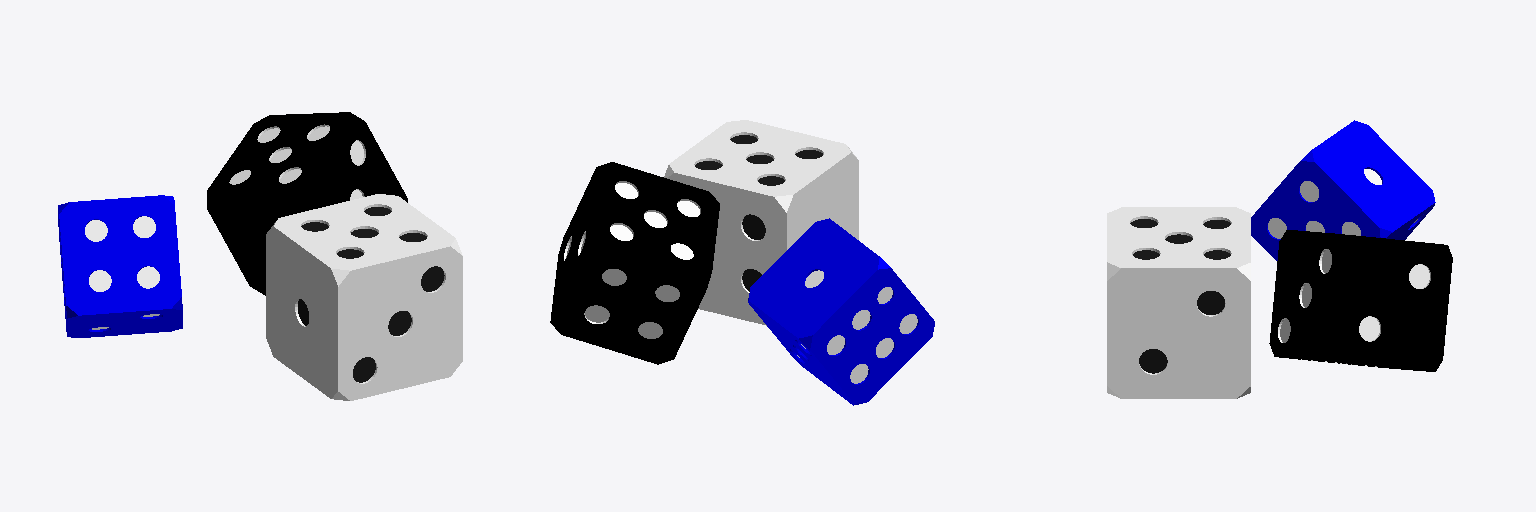
Rendered from block3.obj.
3 views of the same model, side by side, from view 1: azimuth 30°, elevation 25°; view 2: azimuth 150°, elevation 25°; view 3: azimuth 270°, elevation 25° (orthographic).
Parts seen in each view (by area): view 1: Mesh3 DICE1 Model, Mesh1 Group1 Model, Mesh2 Group2 Model; view 2: Mesh1 Group1 Model, Mesh3 DICE1 Model, Mesh2 Group2 Model; view 3: Mesh3 DICE1 Model, Mesh1 Group1 Model, Mesh2 Group2 Model.
Part boxes in pixels (x1,y1,x2,y2): Mesh3 DICE1 Model: (266,194,462,400); Mesh1 Group1 Model: (207,112,407,295); Mesh2 Group2 Model: (58,195,182,337); Mesh1 Group1 Model: (550,162,719,364); Mesh3 DICE1 Model: (664,120,858,325); Mesh2 Group2 Model: (748,218,934,405); Mesh3 DICE1 Model: (1107,207,1250,398); Mesh1 Group1 Model: (1269,230,1452,371); Mesh2 Group2 Model: (1251,120,1435,260).
Bounding box in the file's own units: 2.12 × 0.96 × 1.78.